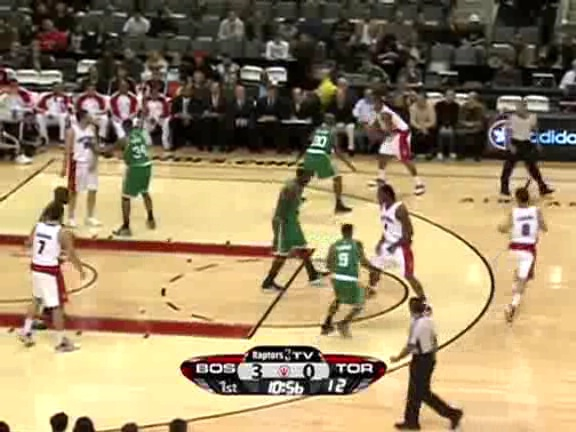person: (328, 231, 362, 312), (327, 231, 361, 312), (329, 231, 363, 312), (328, 230, 362, 311), (328, 232, 362, 313)
target_negative: (160, 112, 510, 371), (7, 379, 300, 424), (354, 196, 410, 362), (73, 395, 221, 404), (314, 407, 509, 413), (500, 336, 553, 355)
